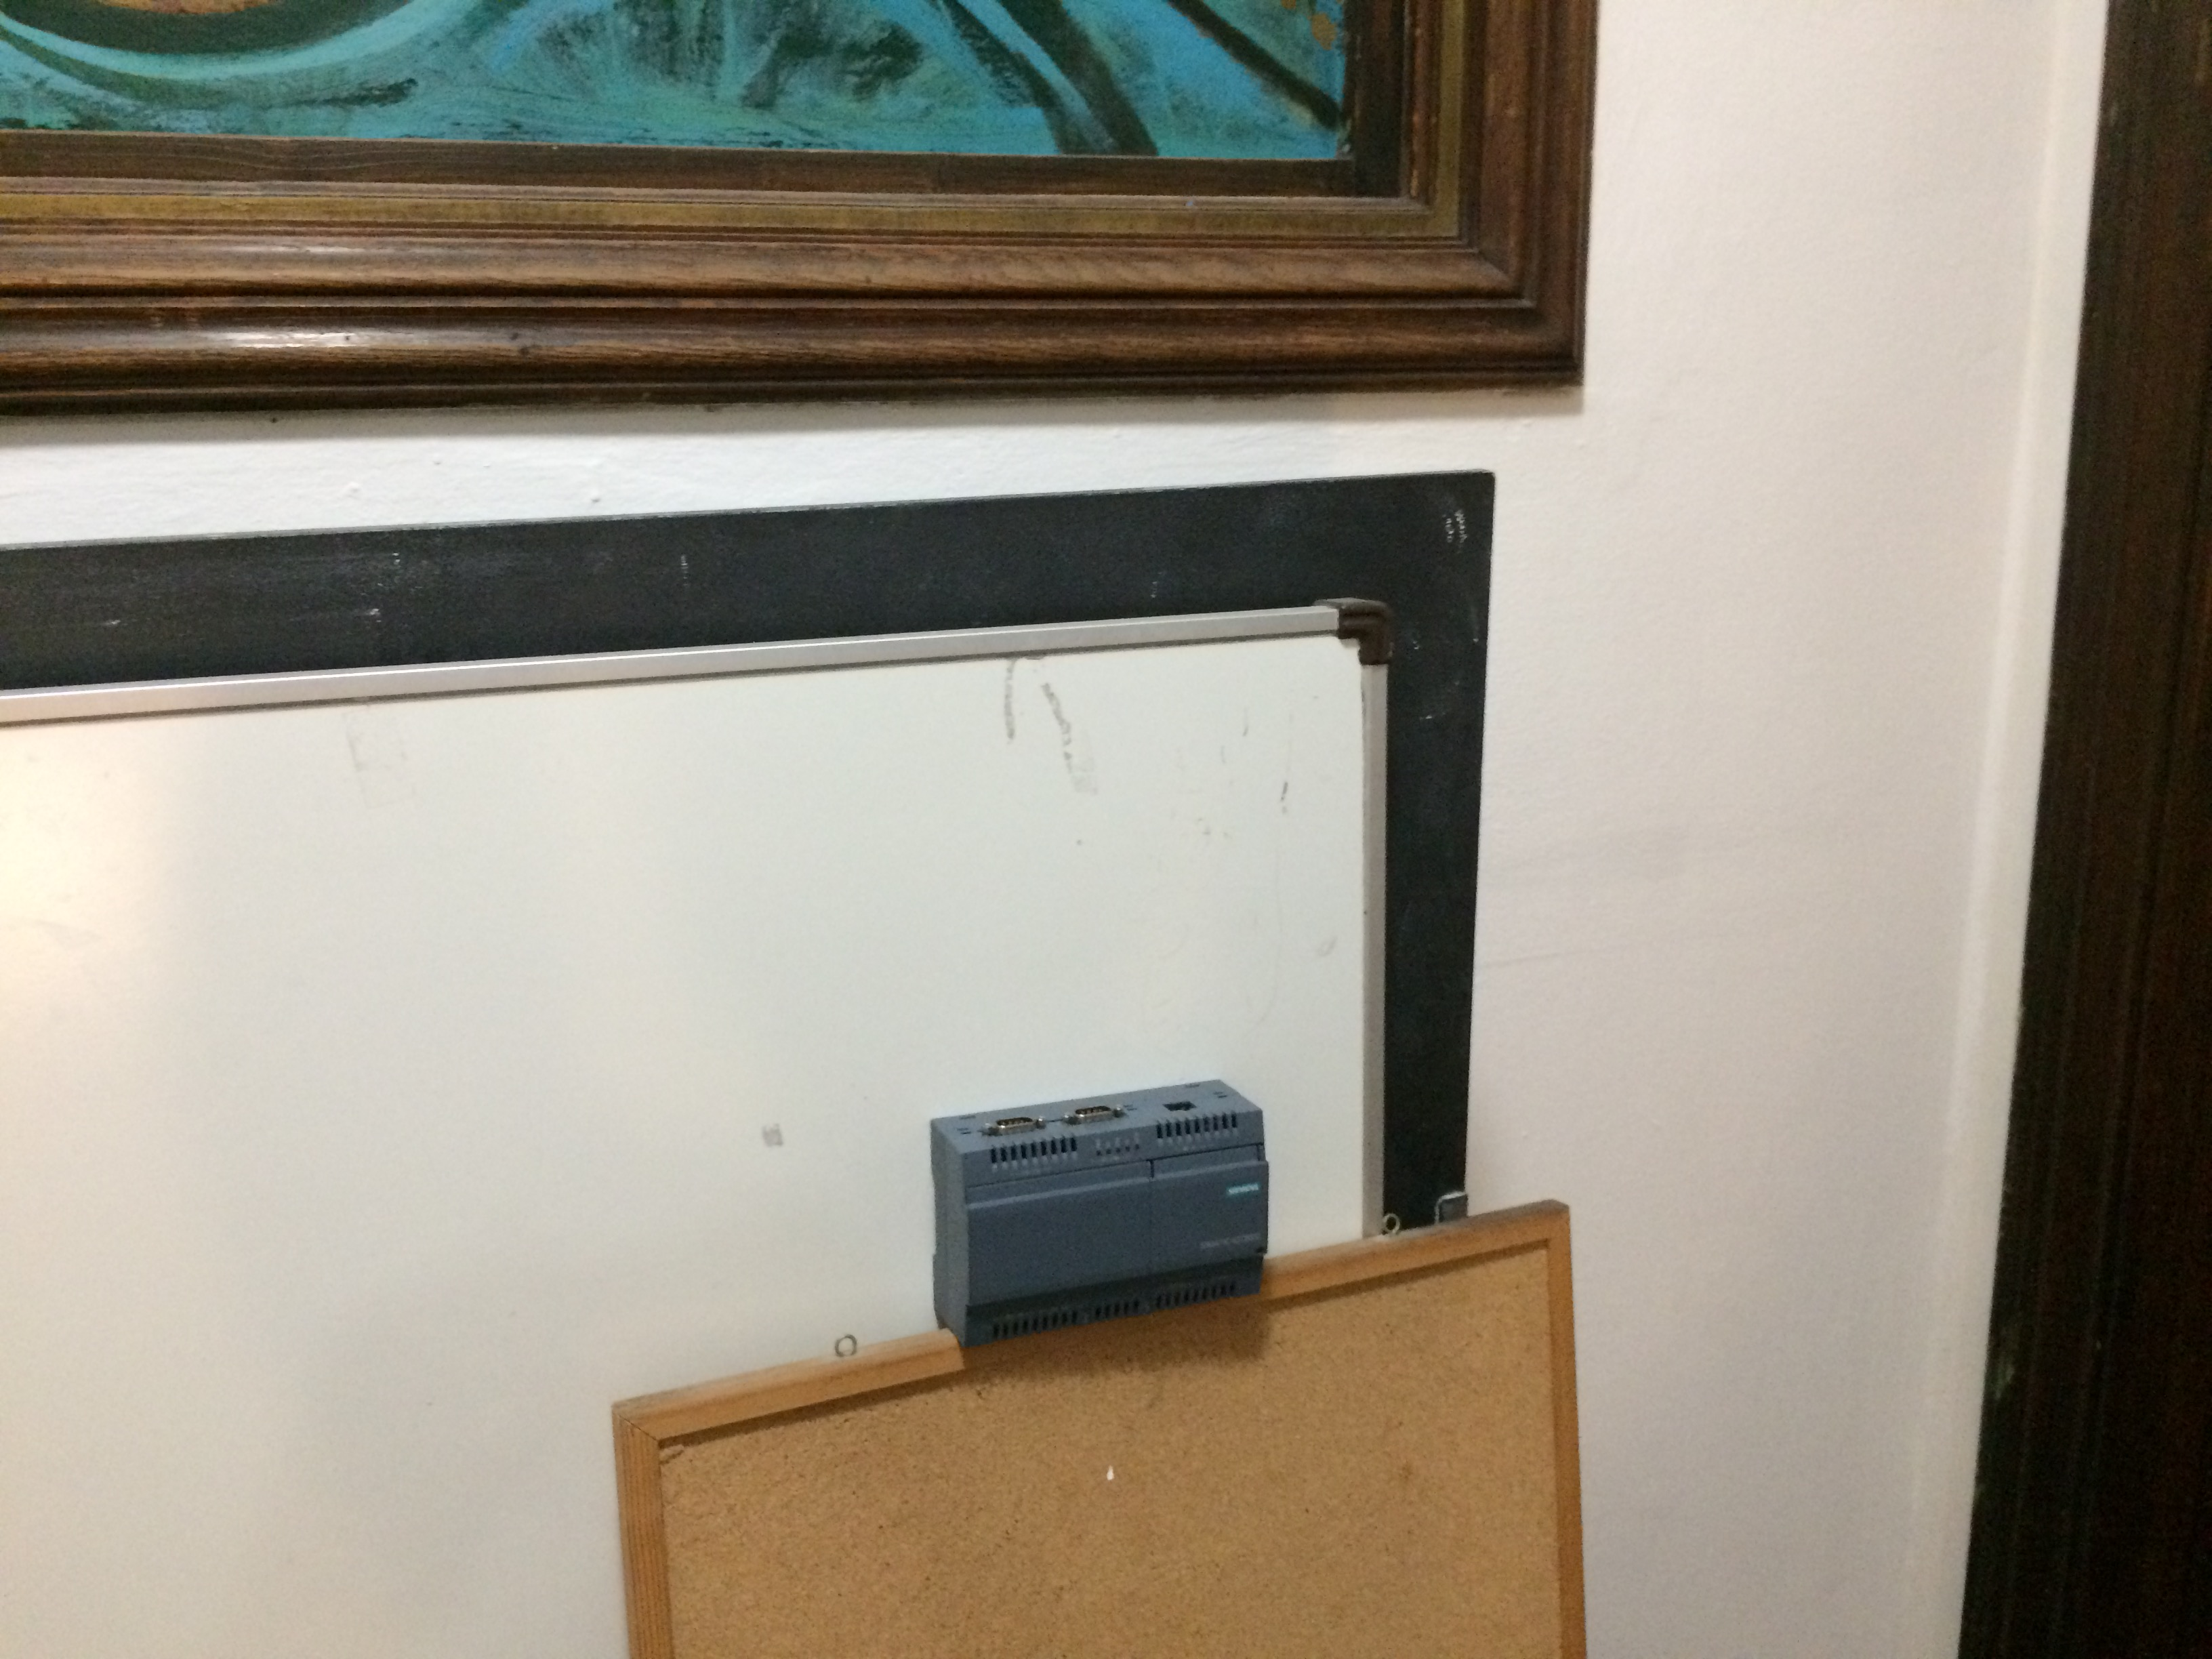iot2000: (927, 1072, 1273, 1356)
